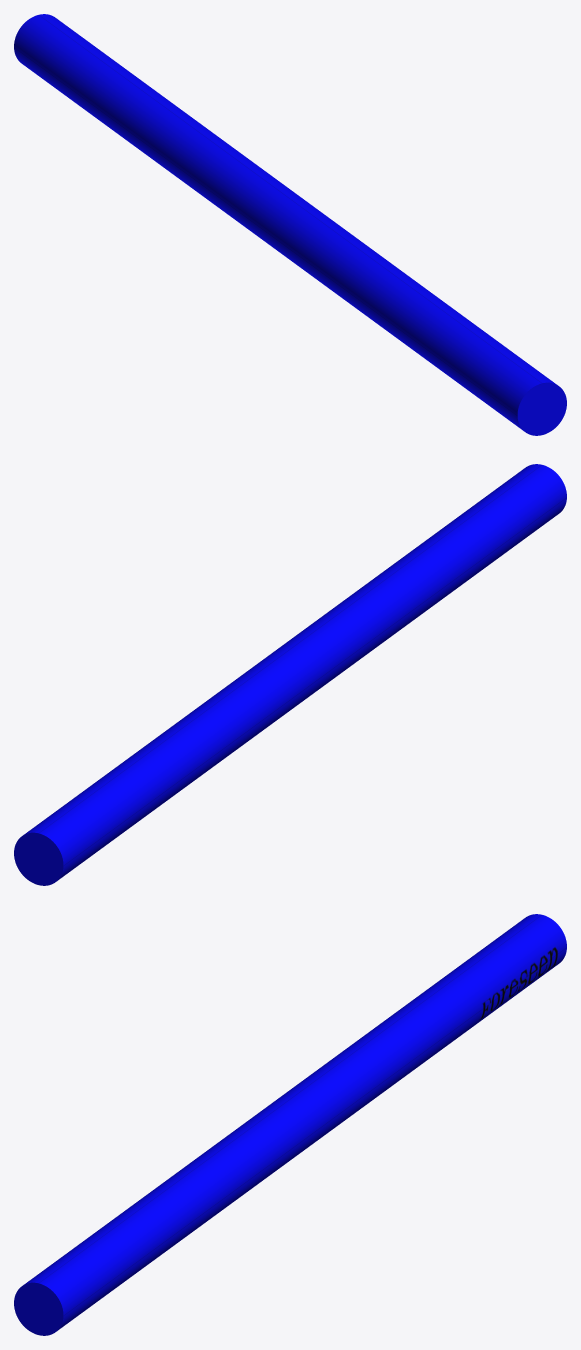
File: Asset12.gltf
3 renders of one model, top to bottom at view 1: azimuth 30°, elevation 25°; view 2: azimuth 150°, elevation 25°; view 3: azimuth 330°, elevation 25°, orthographic.
Size of the model in its own units: 0.0258 by 0.0258 by 0.4559.
Materials: 1 (1 with a texture image).
